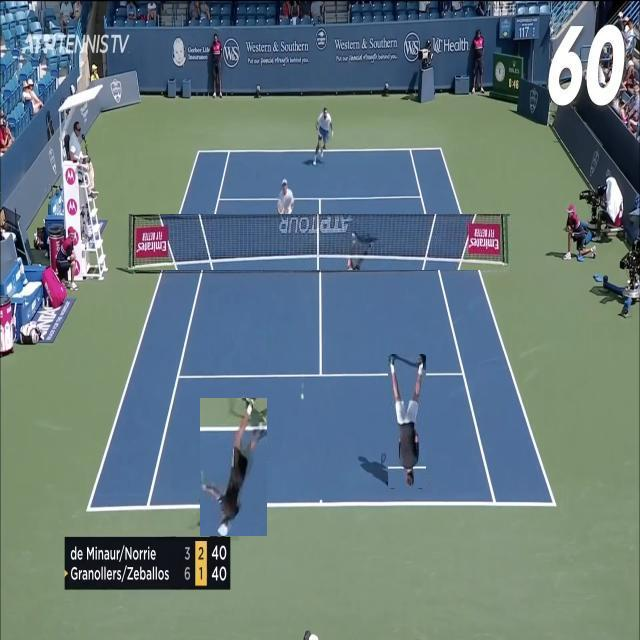court: (86, 147, 557, 513)
net: (128, 214, 510, 270)
player: (200, 398, 267, 536), (388, 354, 426, 488)
